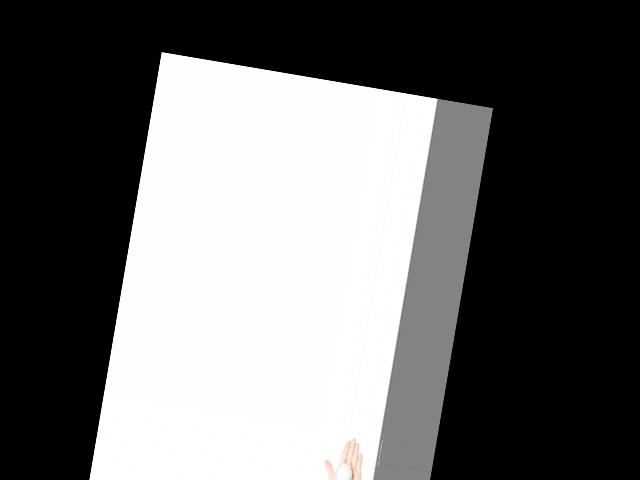egg: (335, 462, 353, 480)
